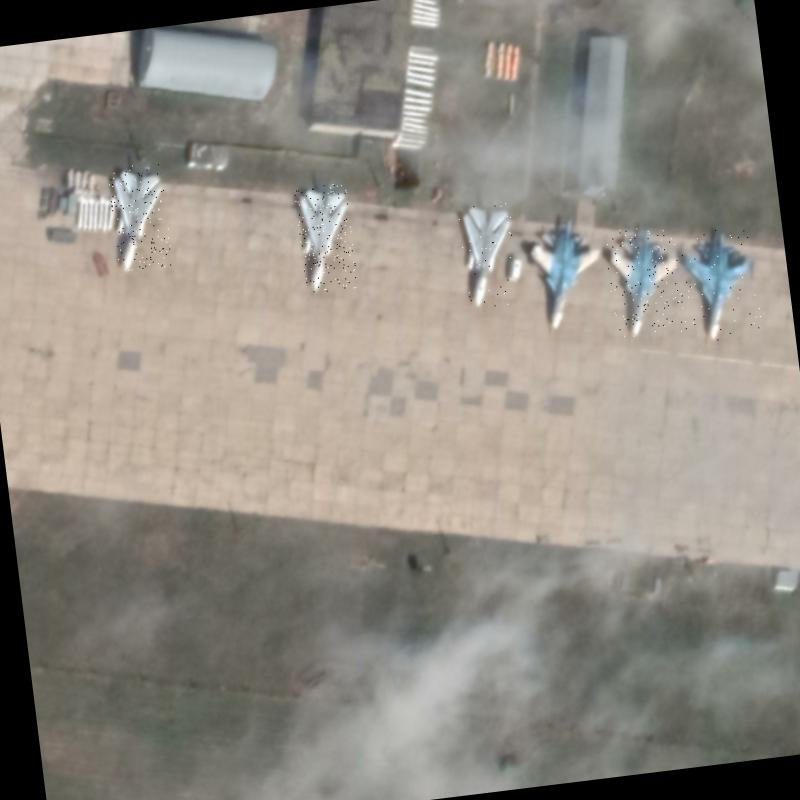A19: (676, 224, 765, 344), (523, 214, 609, 332), (603, 222, 688, 339)
A20: (106, 161, 172, 272), (293, 182, 358, 294), (457, 199, 522, 309)
